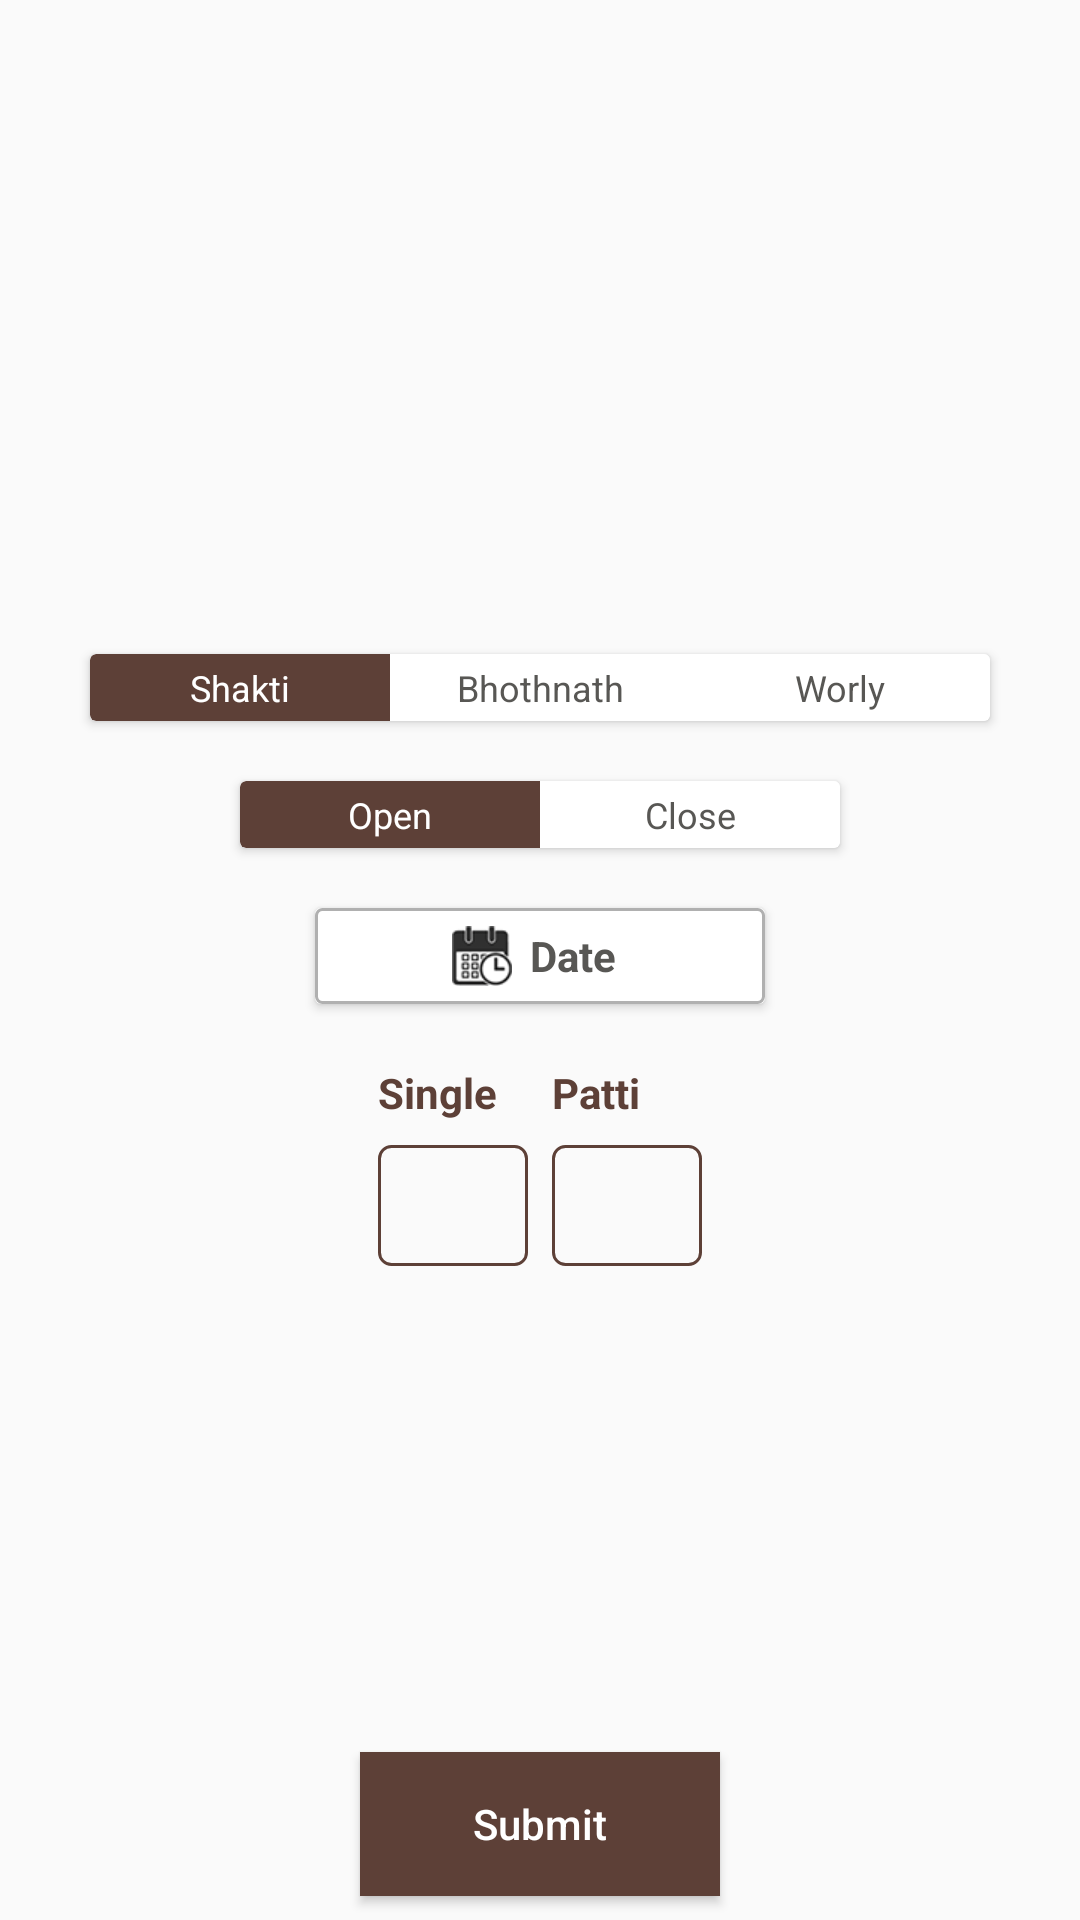

Named icons in this screenshot (1080w x 1920h) and their centers, [x,y]:
calander: [482,956]
